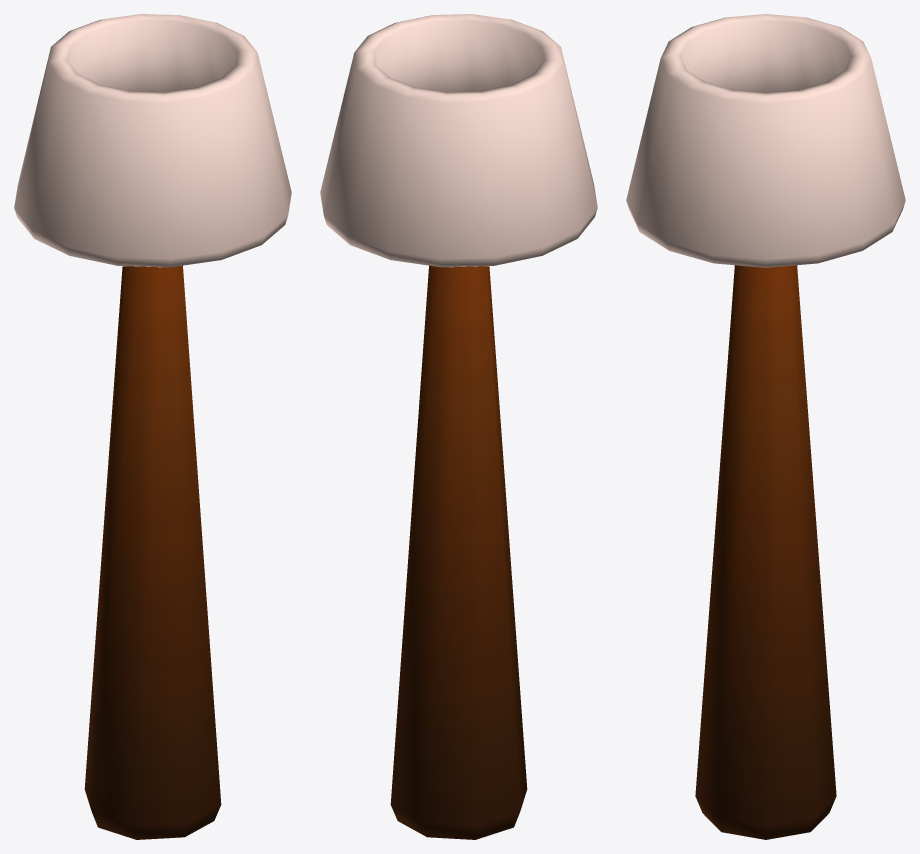
The model's file is SM_lamp_21.fbx.
The picture shows the model from 3 angles, left to right: view 1: azimuth 30°, elevation 25°; view 2: azimuth 150°, elevation 25°; view 3: azimuth 270°, elevation 25°; orthographic projection.
Visible parts, largest first — view 1: SM_lamp_21; view 2: SM_lamp_21; view 3: SM_lamp_21.
Boxes of the visible parts, box(x1,y1,x2,y2) form: SM_lamp_21: box(14, 14, 291, 839); SM_lamp_21: box(320, 14, 597, 839); SM_lamp_21: box(626, 14, 905, 839).
Size of the model in its own units: 59.21 by 179 by 59.21.
1 material, 1 textured.
